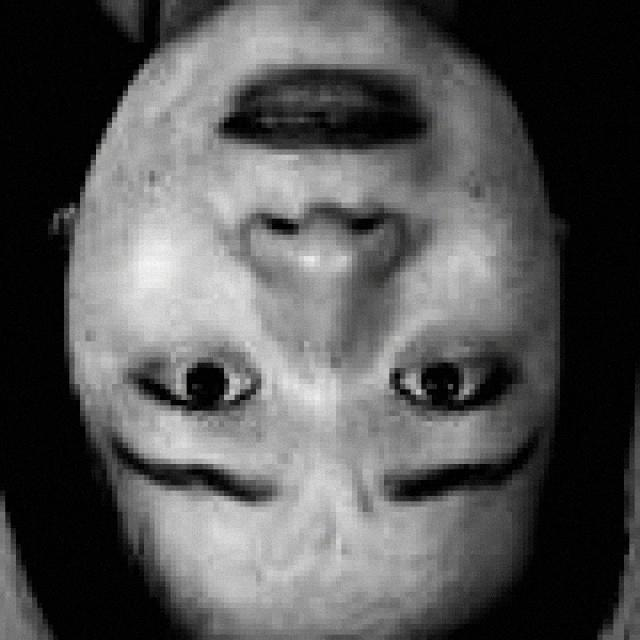fear: (84, 5, 573, 613)
